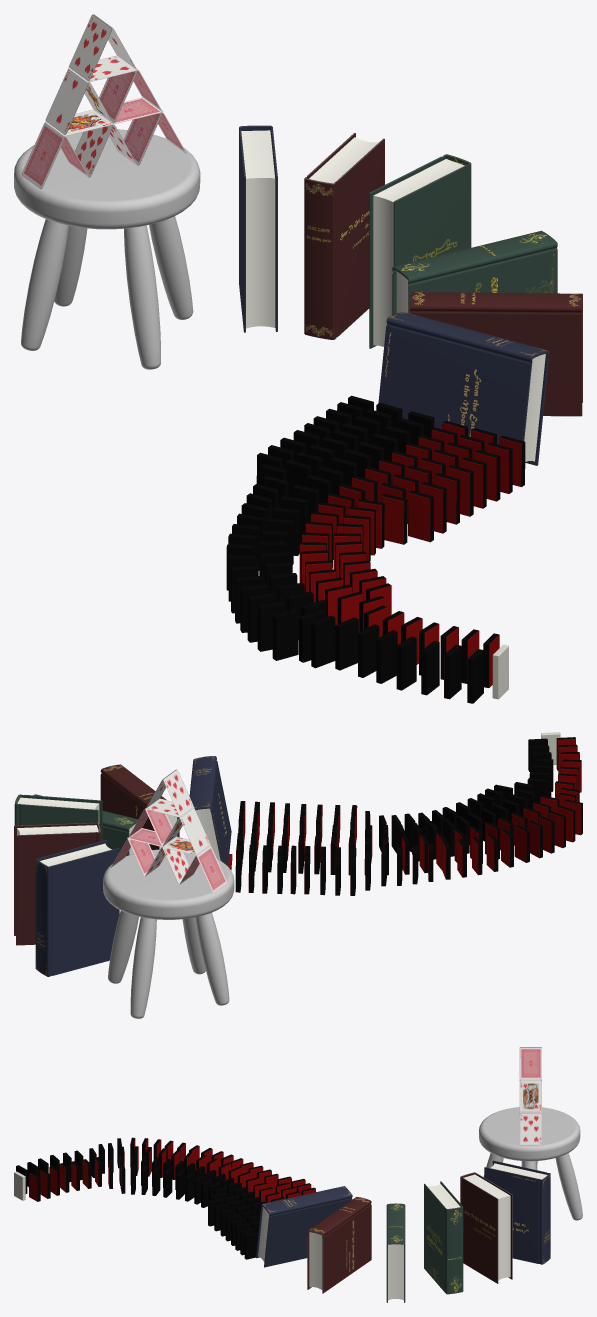
File: dominoPuzzle.fbx
3 views of the same model, one above another, from view 1: azimuth 30°, elevation 25°; view 2: azimuth 150°, elevation 25°; view 3: azimuth 270°, elevation 25° (orthographic). The views are drawn at different scales.
Visible parts, largest first — view 1: pCube366 (×2), pCube364 (×2), pCube341 (×2), pCylinder159, pCube365 (×2), pCube369 (×7), pCube342, pCylinder162, pCylinder161, pCylinder163, pCylinder160, polySurface16 (+10 smaller); view 2: pCube364 (×2), pCube366 (×2), pCylinder159, pCube341 (×2), pCylinder160, pCylinder161, pCylinder163, pCube365 (×2), pCylinder162, polySurface16, polySurface3, polySurface11 (+16 smaller); view 3: pCube364 (×2), pCube366 (×2), pCube341 (×2), pCylinder159, pCube367 (×2), pCube342 (×2), pCylinder160, polySurface17, polySurface14, polySurface8, pCube365 (×2), pCube434.
Boxes of the visible parts, <box> form: pCube366 (×2): <box>304,133,582,416</box>; pCube364 (×2): <box>239,125,549,465</box>; pCube341 (×2): <box>369,154,557,348</box>; pCylinder159: <box>14,129,200,229</box>; pCube365 (×2): <box>241,130,545,461</box>; pCube369 (×7): <box>311,615,461,699</box>; pCube342: <box>373,159,464,346</box>; pCylinder162: <box>124,225,160,369</box>; pCylinder161: <box>21,219,68,350</box>; pCylinder163: <box>149,216,193,319</box>; pCylinder160: <box>54,226,87,306</box>; polySurface16: <box>69,14,112,81</box>; pCube364 (×2): <box>35,756,231,976</box>; pCube366 (×2): <box>14,764,179,945</box>; pCylinder159: <box>103,849,234,919</box>; pCube341 (×2): <box>14,794,138,855</box>; pCylinder160: <box>130,917,156,1018</box>; pCylinder161: <box>195,912,229,1005</box>; pCylinder163: <box>108,911,138,983</box>; pCube365 (×2): <box>40,808,220,866</box>; pCylinder162: <box>182,917,205,974</box>; polySurface16: <box>163,769,193,816</box>; polySurface3: <box>196,846,227,892</box>; polySurface11: <box>180,808,210,854</box>; pCube364 (×2): <box>256,1160,550,1267</box>; pCube366 (×2): <box>307,1172,512,1293</box>; pCube341 (×2): <box>386,1181,463,1302</box>; pCylinder159: <box>479,1107,580,1161</box>; pCube367 (×2): <box>309,1174,510,1289</box>; pCube342 (×2): <box>388,1184,460,1300</box>; pCylinder160: <box>555,1153,582,1220</box>; polySurface17: <box>519,1047,541,1079</box>; polySurface14: <box>519,1080,541,1112</box>; polySurface8: <box>519,1113,541,1145</box>; pCube365 (×2): <box>258,1163,547,1261</box>; pCube434: <box>244,1232,258,1259</box>.
Size of the model in its own units: 45.54 by 25.81 by 77.49.
